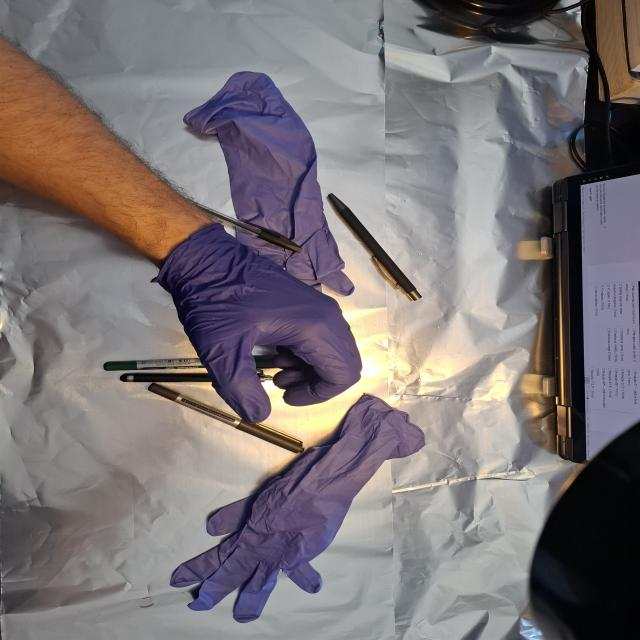glove_on: (156, 223, 367, 428)
